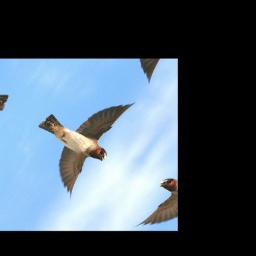Swallow: (4, 75, 144, 203)
